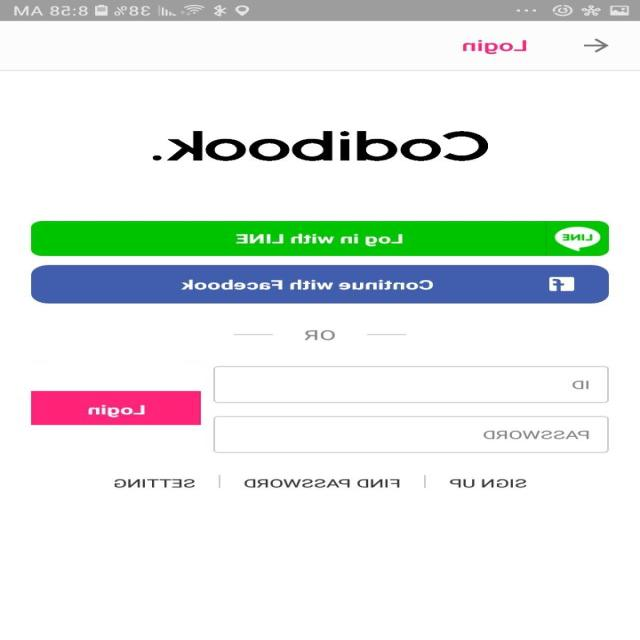EditText: (213, 415, 609, 453), (213, 366, 609, 402)
Icon: (584, 38, 609, 52)
Text: (153, 130, 489, 162), (244, 478, 401, 488), (463, 39, 527, 54), (484, 430, 590, 439), (114, 478, 196, 488), (450, 478, 528, 488), (305, 329, 336, 340), (572, 380, 590, 389)
TextButton: (31, 264, 609, 304), (32, 220, 610, 256), (31, 390, 202, 425)
